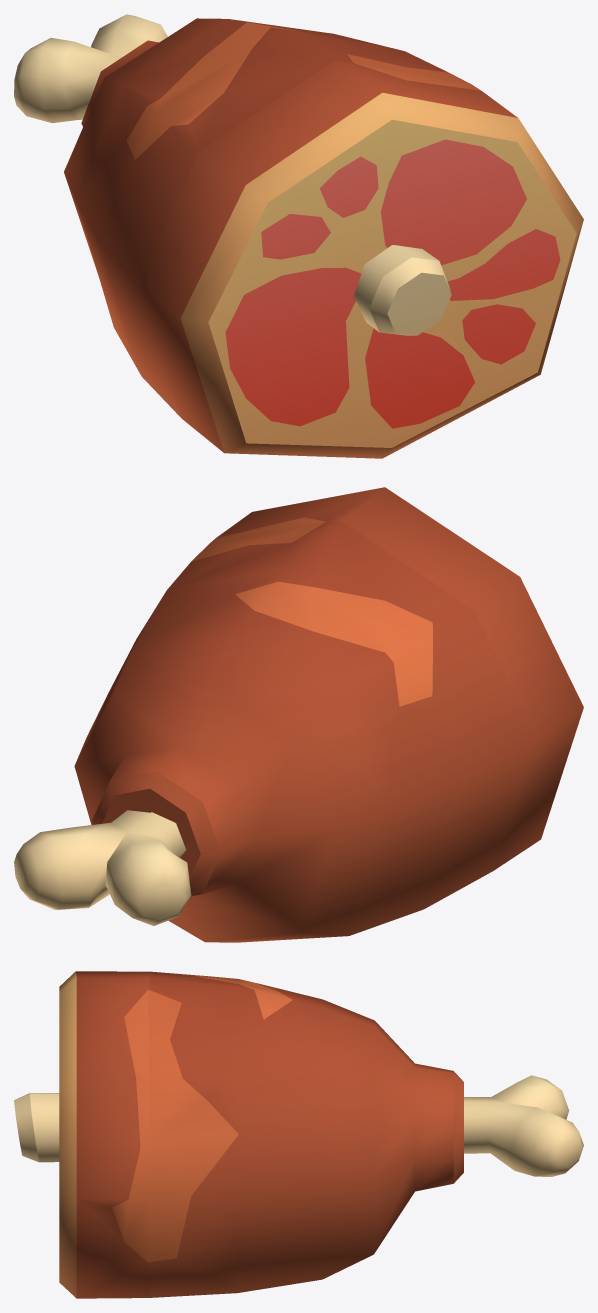
The model's file is Meat_1_B.glb.
The picture shows the model from 3 angles, top to bottom: view 1: azimuth 30°, elevation 25°; view 2: azimuth 150°, elevation 25°; view 3: azimuth 270°, elevation 25°; orthographic projection. The views are drawn at different scales.
Visible parts, largest first — view 1: Meat_1_B; view 2: Meat_1_B; view 3: Meat_1_B.
Boxes of the visible parts, box(x1,y1,x2,y2) form: Meat_1_B: box(14, 14, 583, 458); Meat_1_B: box(14, 487, 583, 942); Meat_1_B: box(14, 971, 583, 1298).
Size of the model in its own units: 0.3414 by 0.2954 by 0.518.
Materials: 1 (1 with a texture image).
